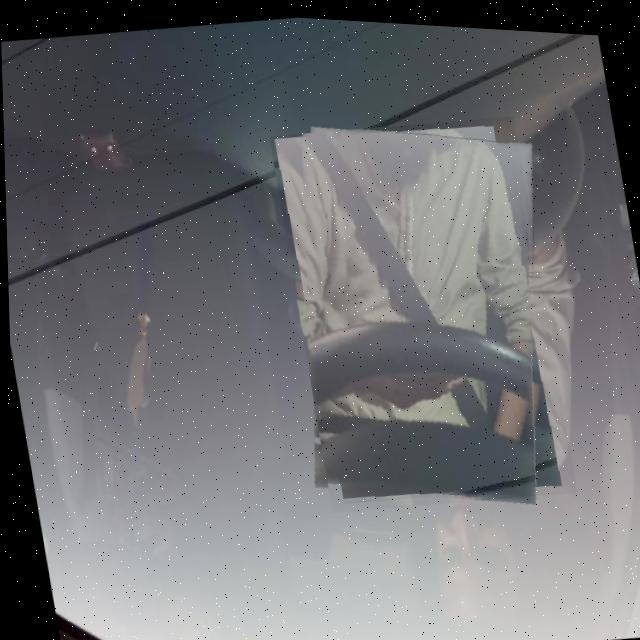seatbelt: (268, 98, 575, 520)
